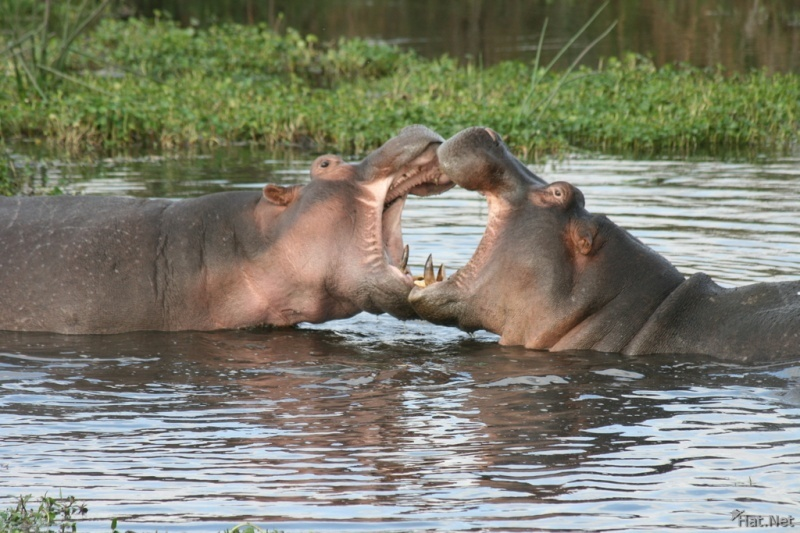hipopotamo: (0, 120, 457, 336), (405, 128, 800, 354)
